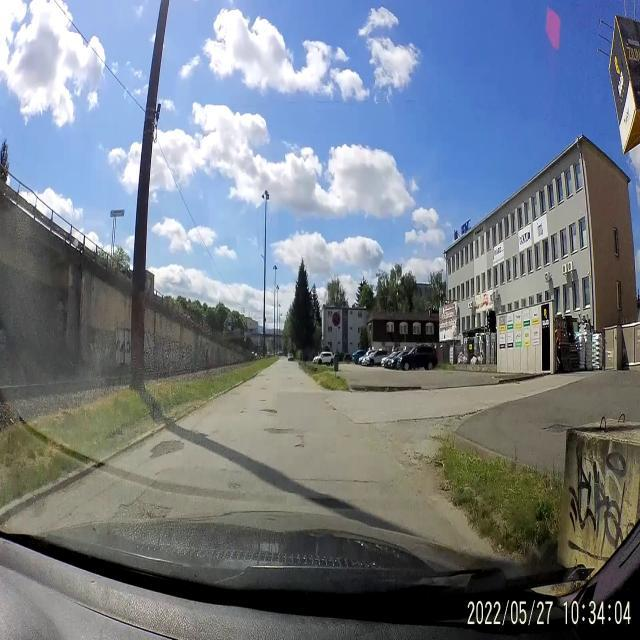Pothole: (116, 496, 171, 525), (146, 433, 187, 463), (262, 424, 296, 436), (292, 437, 310, 457), (260, 402, 278, 418), (322, 398, 338, 414)
